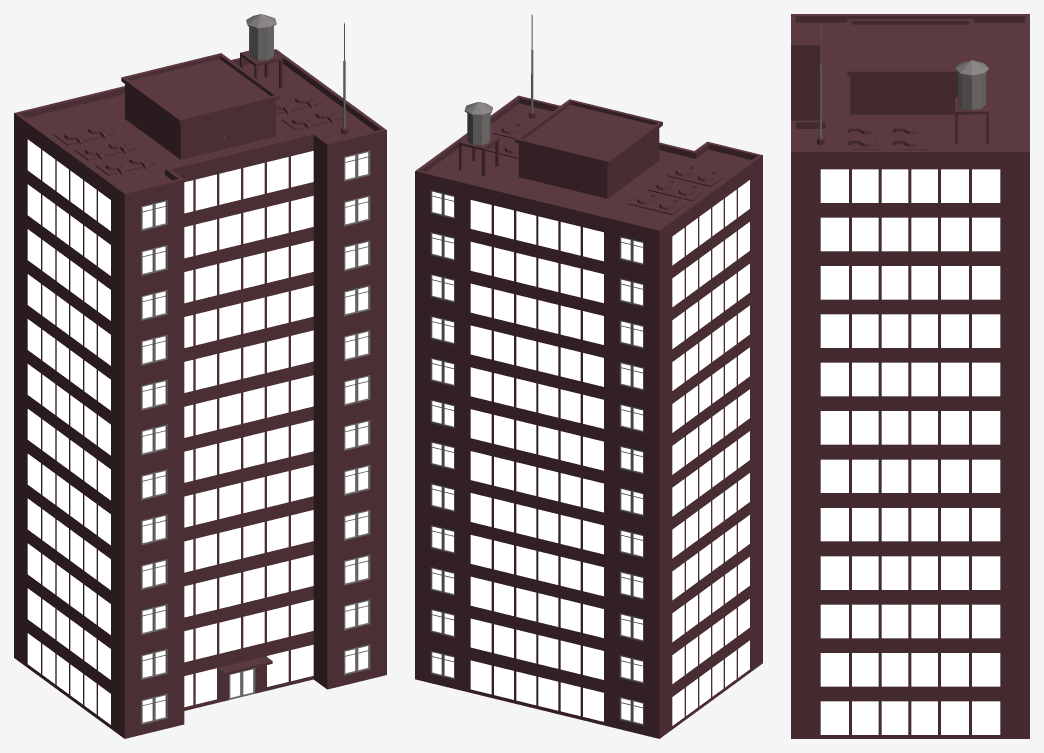
Rendered from buildings-building-office-big.glb.
3 views of the same model, side by side, from view 1: azimuth 30°, elevation 25°; view 2: azimuth 150°, elevation 25°; view 3: azimuth 270°, elevation 25° (orthographic). The views are drawn at different scales.
Parts seen in each view (by area): view 1: building-office-big; view 2: building-office-big; view 3: building-office-big.
Part boxes in pixels (left/top/right/bottom): building-office-big: left=14, top=14, right=386, bottom=738; building-office-big: left=415, top=14, right=762, bottom=738; building-office-big: left=791, top=14, right=1029, bottom=738.
Bounding box in the file's own units: 22 × 52.08 × 16.1.
